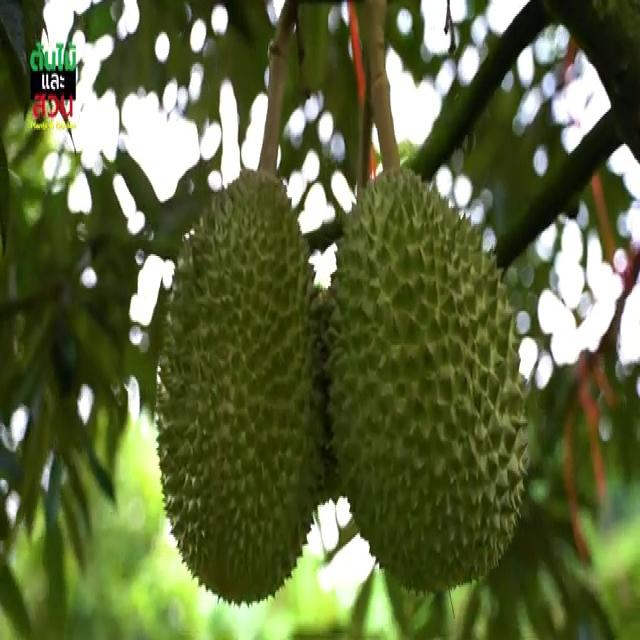durian: (321, 164, 534, 600), (153, 163, 329, 614)
